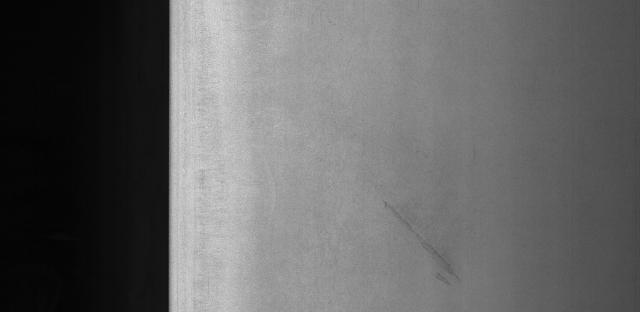water_spot: (379, 187, 474, 297)
